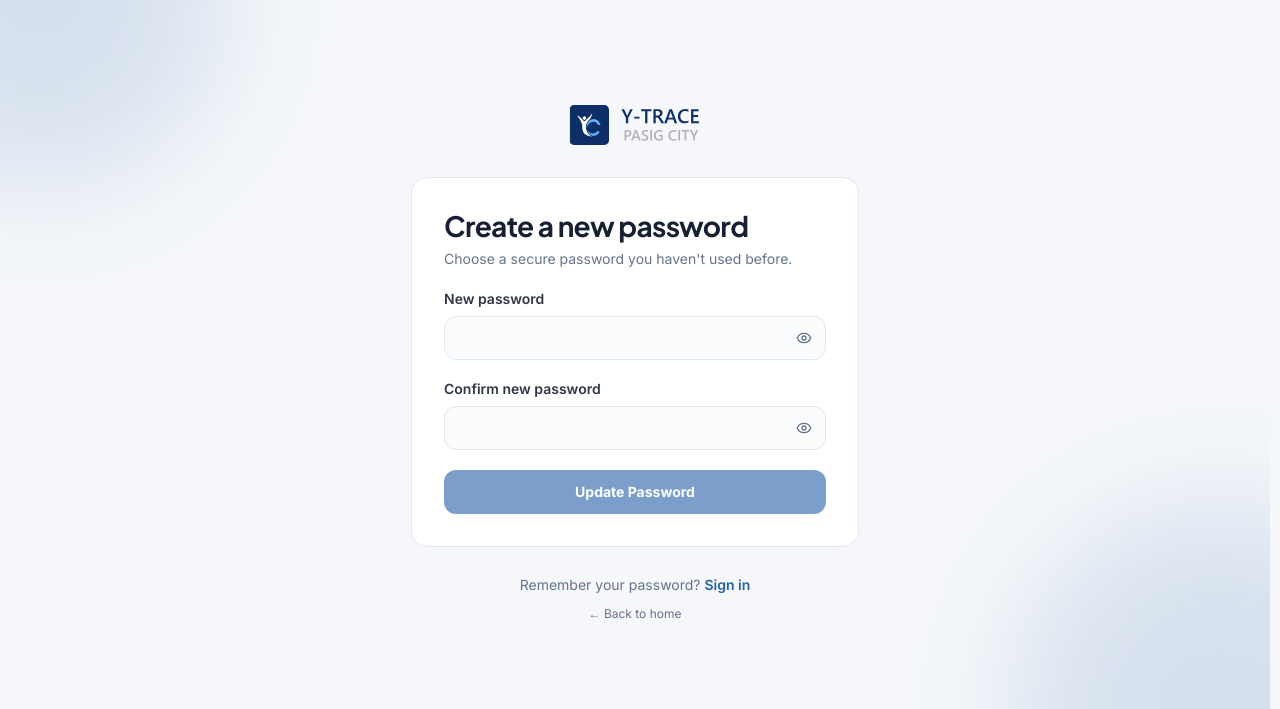
Test: ResetPassword Component & Recovery Flow Suite › Test 10: Validates password criteria before allowing submission
The width and height of the screenshot is (1280, 709).
expect the button "Update Password" is disabled: met, box x1=444 y1=470 x2=826 y2=514
# Invalid password (too short)
Type "Ab1!" into the password field labelled "New password".
click(635, 338); type("Ab1!")  # box x1=444 y1=316 x2=826 y2=360
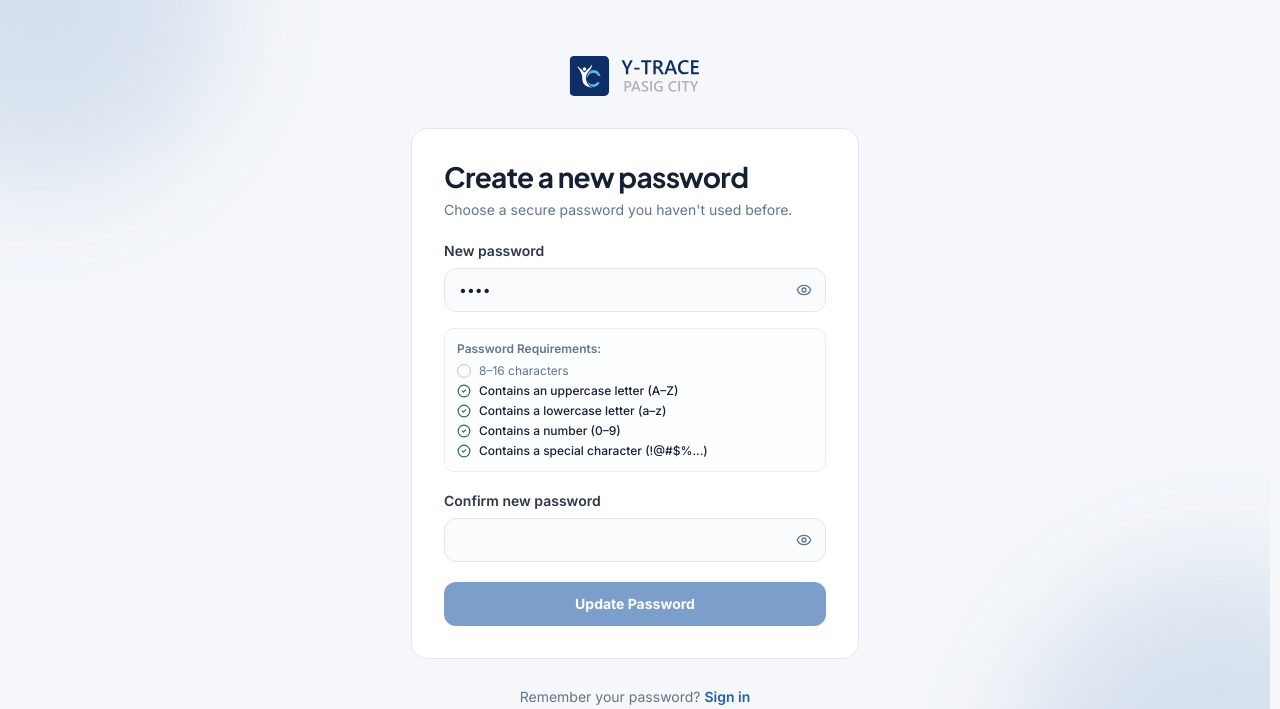
Type "Ab1!" into the password field labelled "Confirm new password".
click(635, 540); type("Ab1!")  # box x1=444 y1=518 x2=826 y2=562
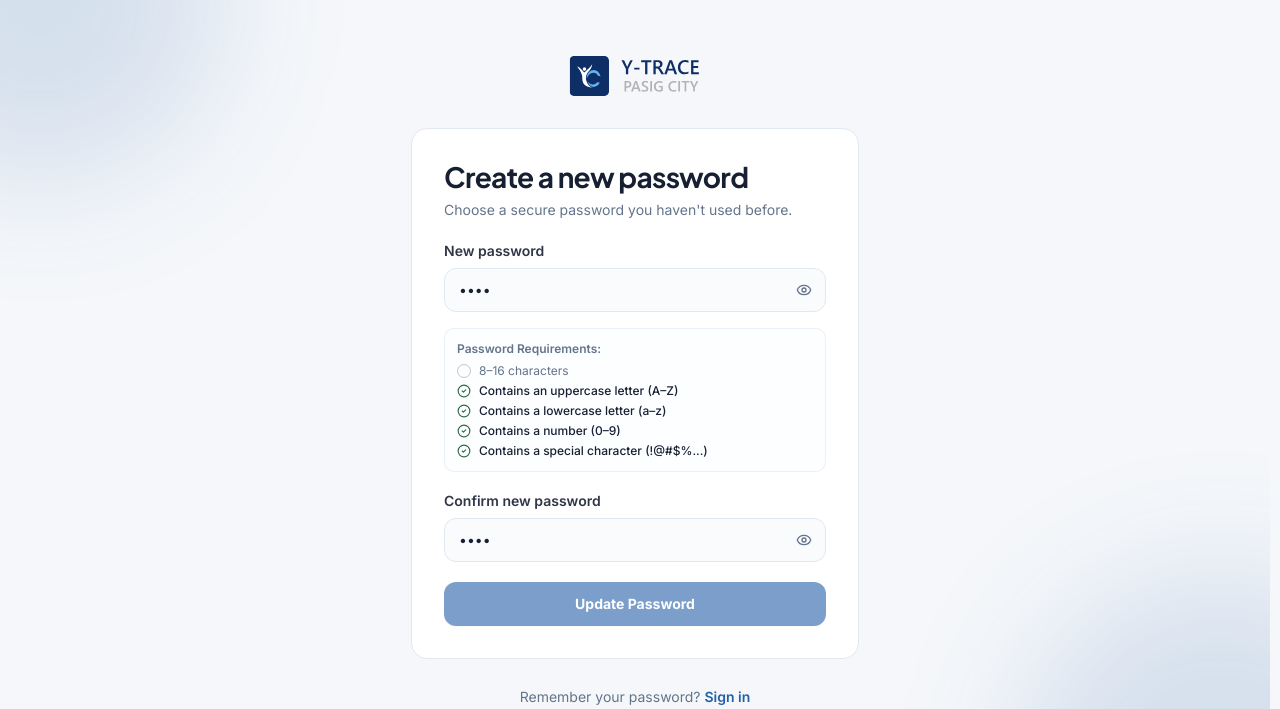
expect the button "Update Password" is disabled: met, box x1=444 y1=582 x2=826 y2=626
# Valid password (8-16 chars, uppercase, lowercase, number, special)
Type "P@ssword123" into the password field labelled "New password".
click(635, 290); type("P@ssword123")  # box x1=444 y1=268 x2=826 y2=312
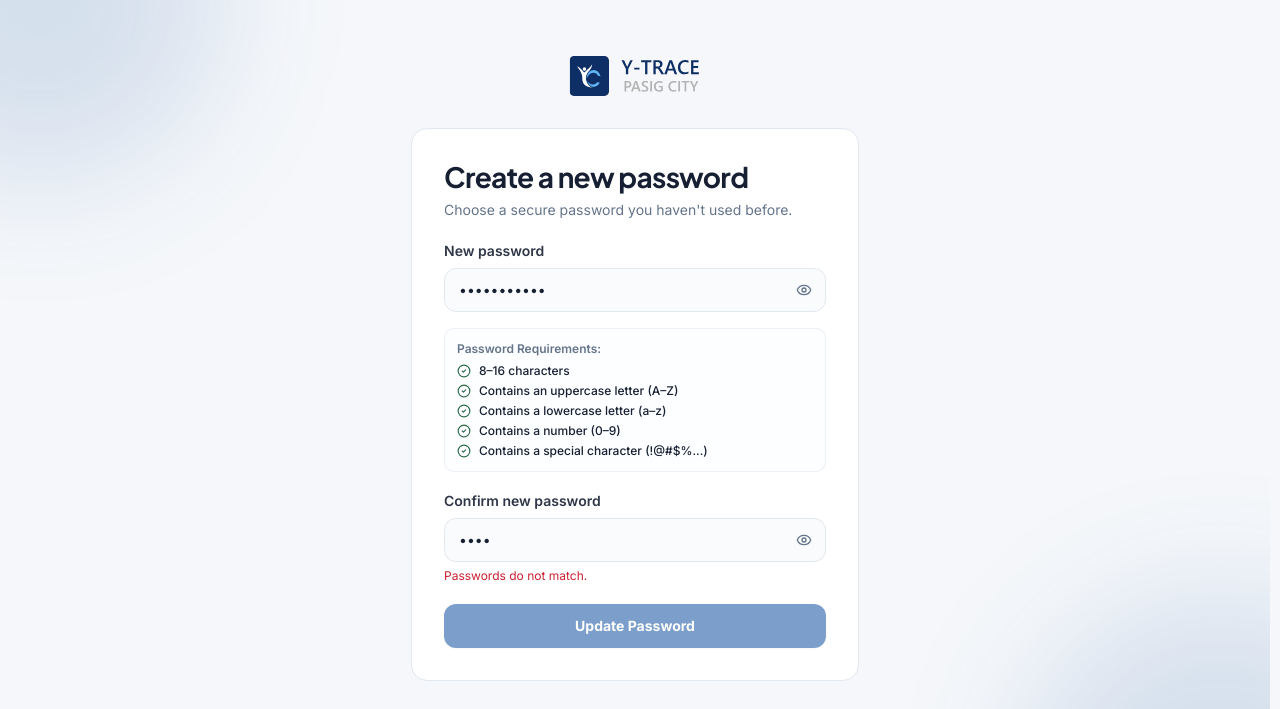
Type "P@ssword123" into the password field labelled "Confirm new password".
click(635, 540); type("P@ssword123")  # box x1=444 y1=518 x2=826 y2=562
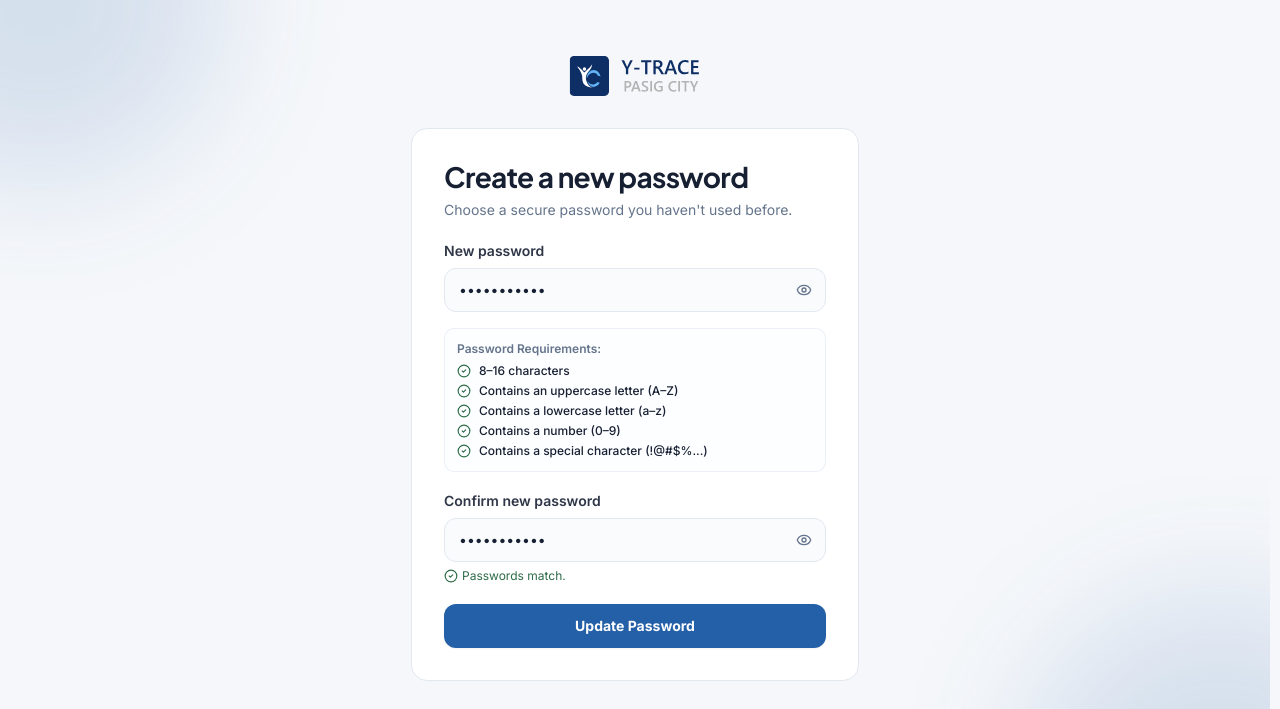
expect the button "Update Password" is enabled: met, box x1=444 y1=604 x2=826 y2=648
